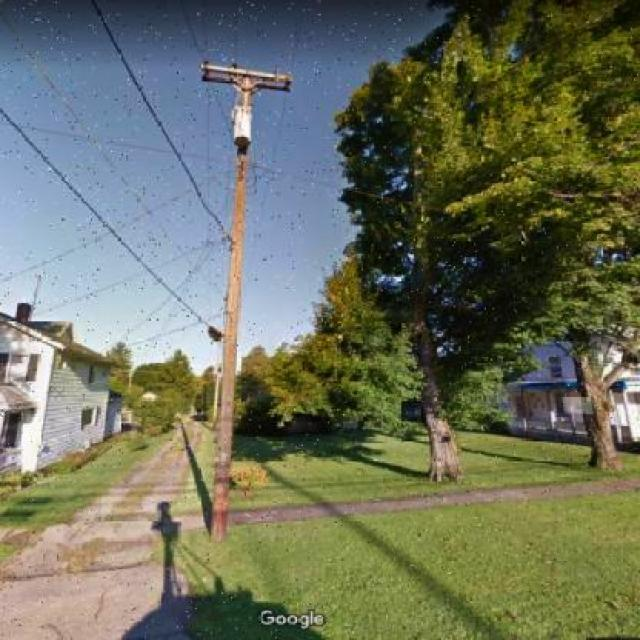crossarm: (199, 62, 296, 94)
pole: (209, 77, 251, 537)
transformer: (233, 108, 257, 150)
wire: (1, 106, 223, 343), (91, 1, 226, 246)
